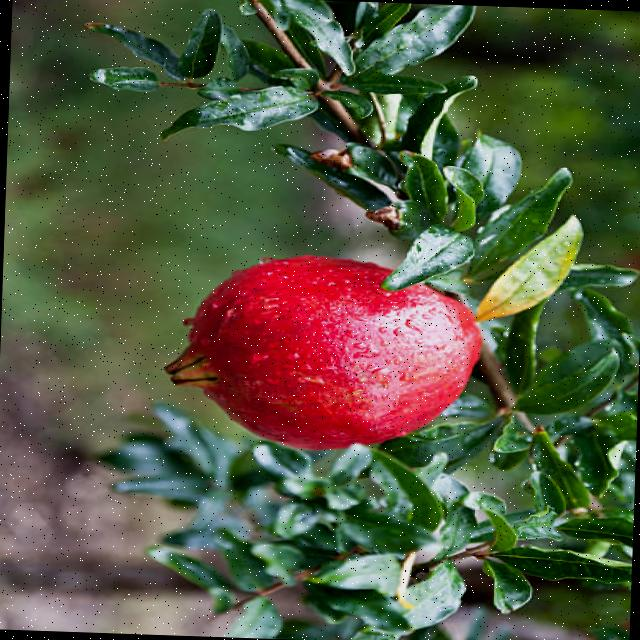Ripe: (155, 245, 488, 460)
